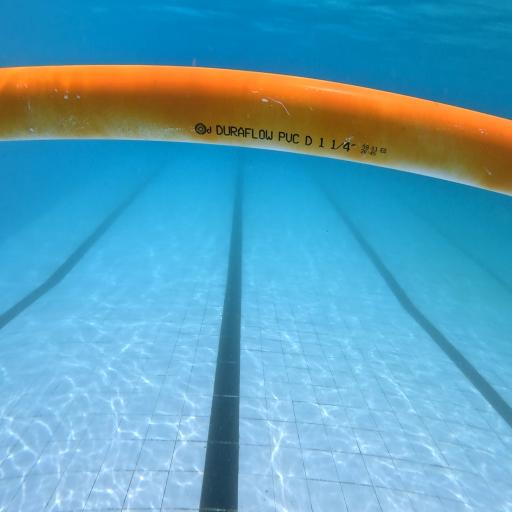upper_gate: (1, 65, 512, 198)
